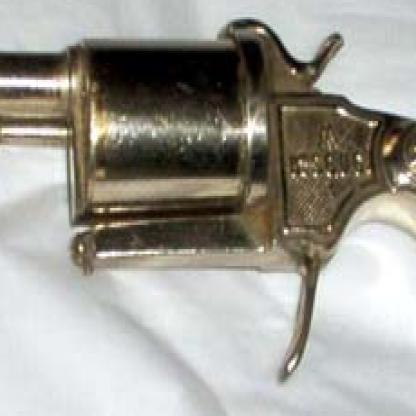gun: (0, 17, 414, 414)
